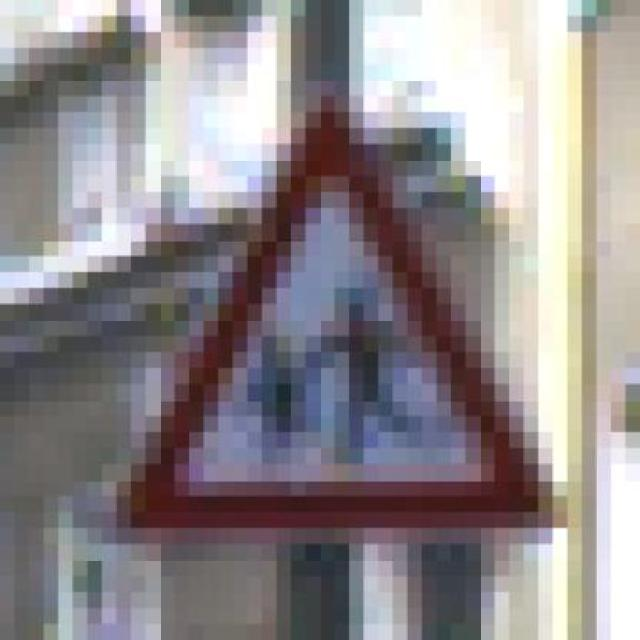Beware of children: (87, 80, 582, 560)
